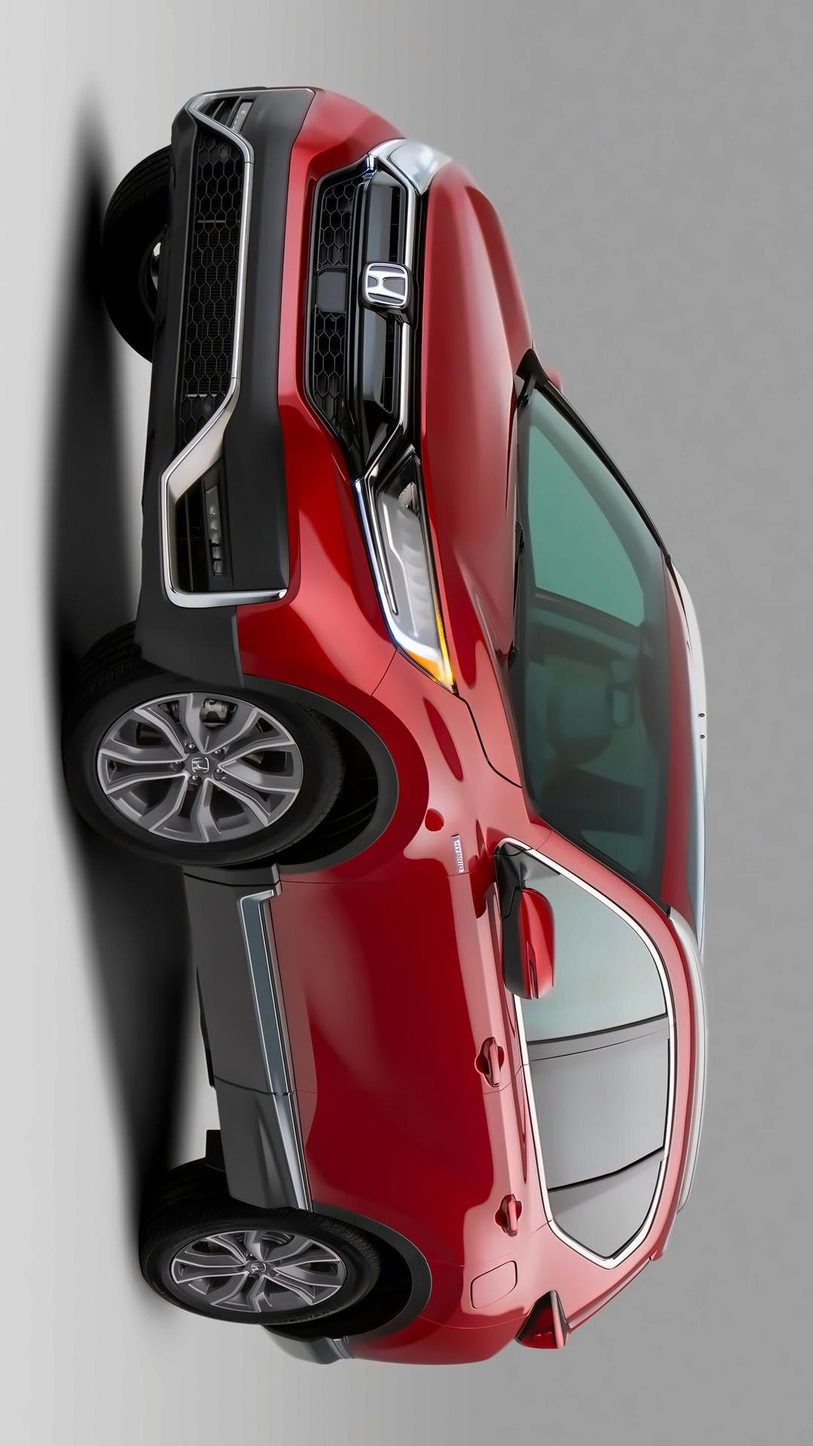Car hood: (415, 151, 541, 787)
Fender - -F-L-: (175, 648, 555, 890)
Fender - -R-L-: (374, 1216, 570, 1334)
Front bumper: (128, 72, 398, 720)
Headlight - -L-: (348, 423, 463, 701)
Headlight - -R-: (363, 133, 459, 198)
Passenger-s door - -F-L-: (251, 868, 682, 1094)
Passenger-s door - -R-L-: (252, 1033, 684, 1262)
Rear bumper: (247, 1309, 536, 1378)
Rear light - -L-: (508, 1277, 578, 1354)
Side bumper - -L-: (176, 848, 315, 1222)
Side mirror - -L-: (483, 847, 563, 1004)
Side mirror - -R-: (541, 354, 582, 407)
